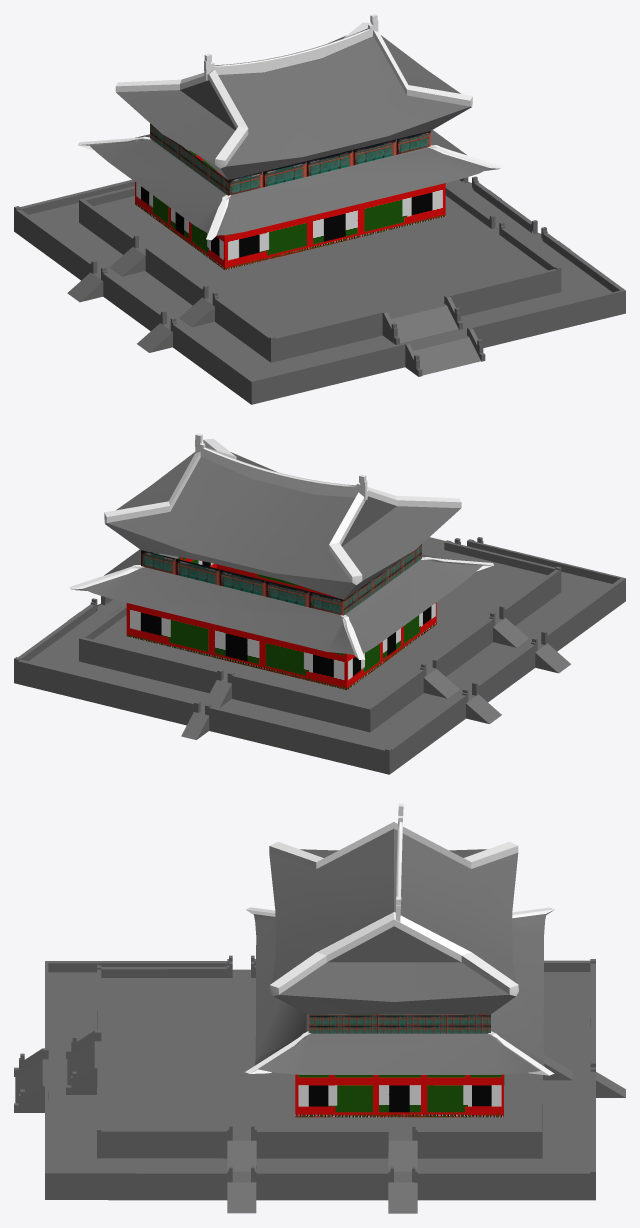
File: gyeongbokkun.fbx
3 renders of one model, top to bottom at view 1: azimuth 30°, elevation 25°; view 2: azimuth 150°, elevation 25°; view 3: azimuth 270°, elevation 25°, orthographic. The views are drawn at different scales.
Visible parts, largest first — view 1: part.005, part.006, part.008, part.009; view 2: part.005, part.006, part.008, part.009; view 3: part.005, part.008, part.006, part.009.
Boxes of the visible parts, x1,y1,x2,y2 form: part.005: (14, 176, 625, 404); part.006: (78, 123, 502, 269); part.008: (115, 22, 472, 179); part.009: (204, 14, 378, 80); part.005: (14, 537, 625, 774); part.006: (69, 544, 493, 690); part.008: (104, 438, 461, 599); part.009: (195, 433, 367, 500); part.005: (14, 955, 625, 1213); part.008: (269, 822, 518, 1014); part.006: (245, 907, 554, 1117); part.009: (395, 803, 403, 921).
Bounding box in the file's own units: 5801 × 2770 × 6260.
6 materials, 3 textured.
